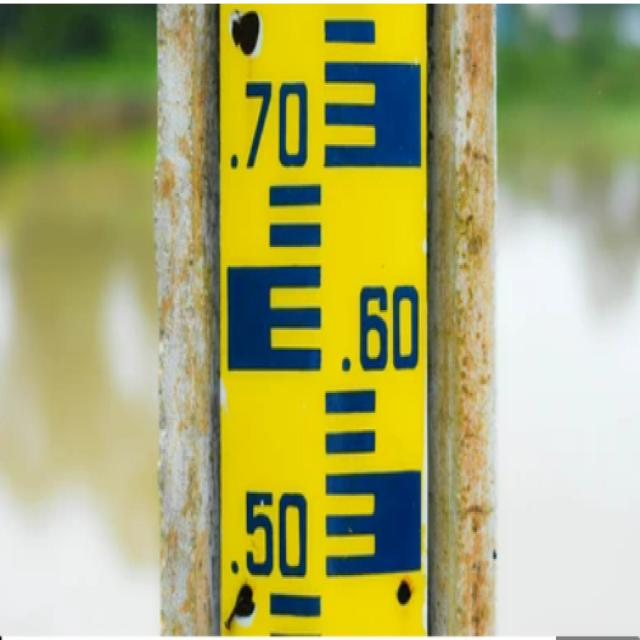ruler: (196, 0, 454, 640)
value: (218, 476, 319, 586), (336, 277, 431, 385), (218, 74, 318, 176)
